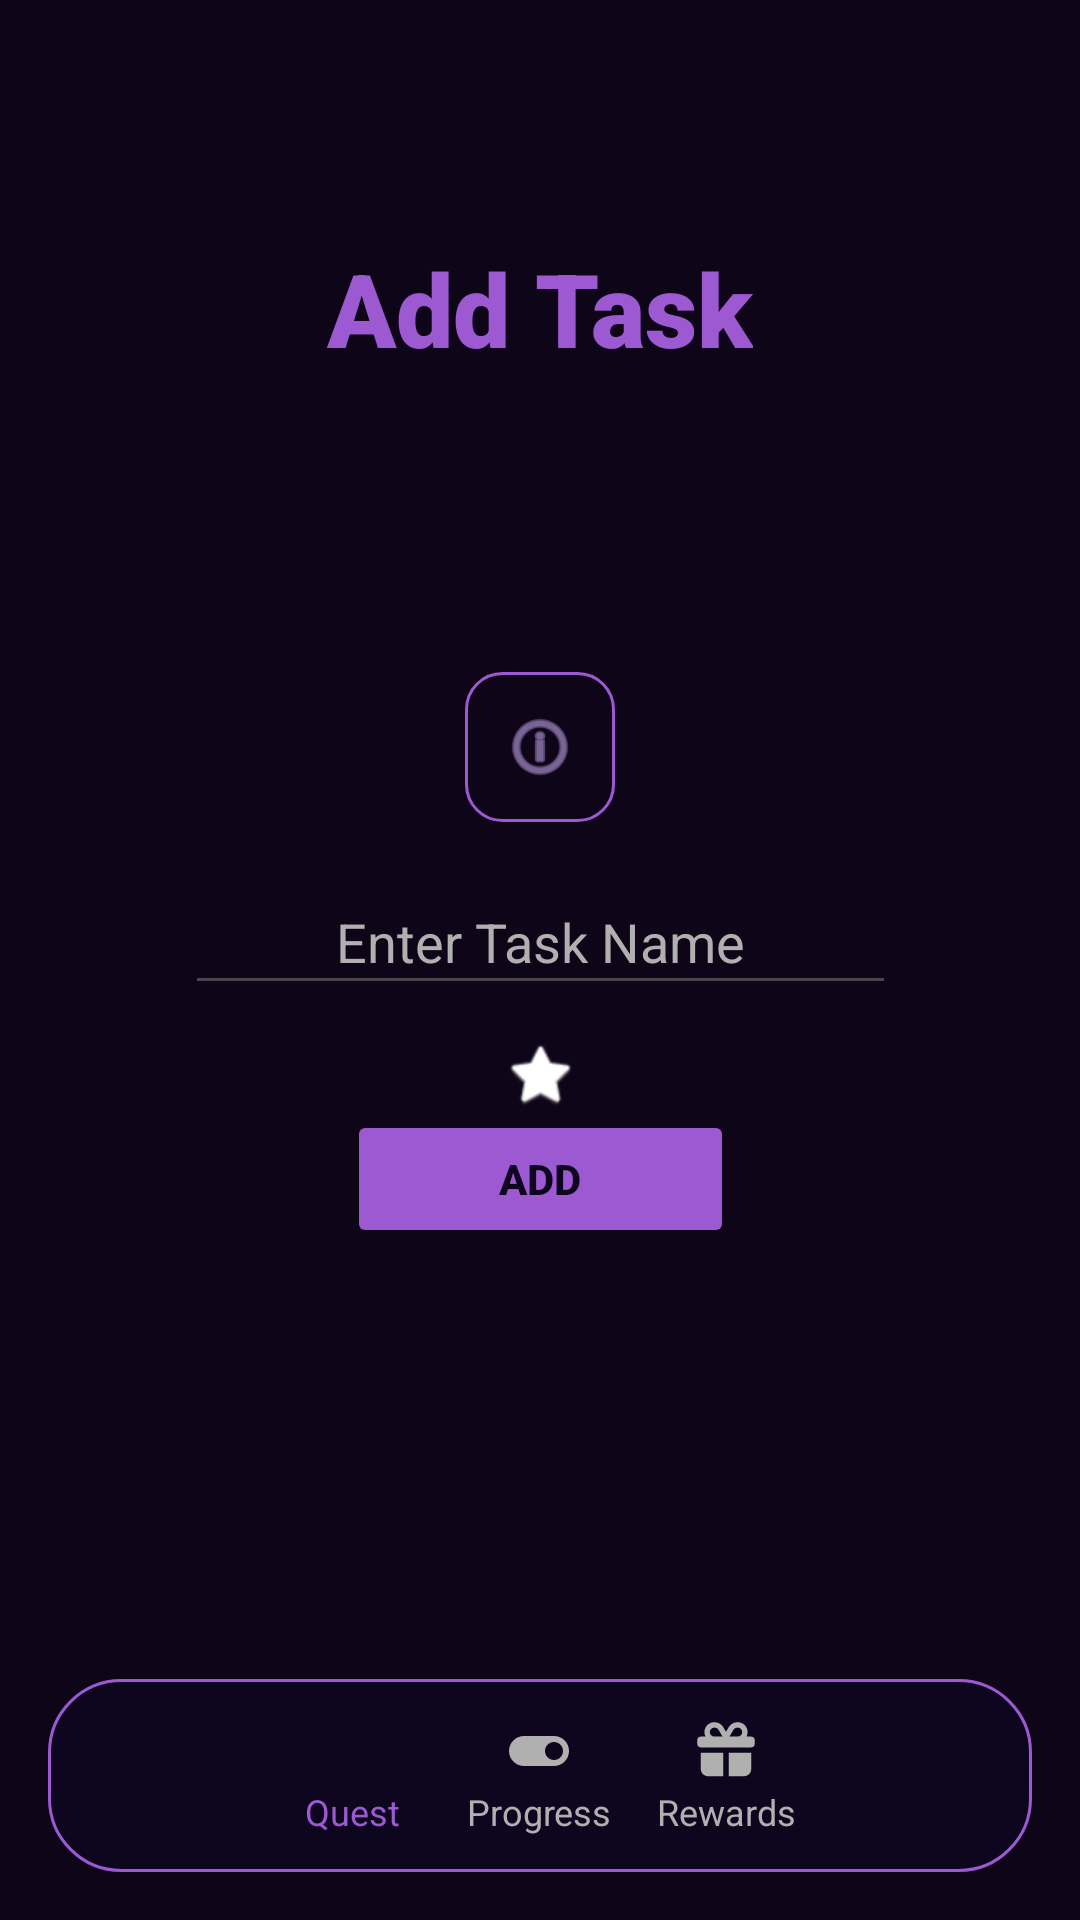

Icon bounding boxes for this 1080w x 1920h phone screenshot, format box(x1, y1, x2, y2):
gift: box(697, 1722, 755, 1777)
info details: box(512, 719, 568, 775)
star on: box(510, 1045, 571, 1104)
